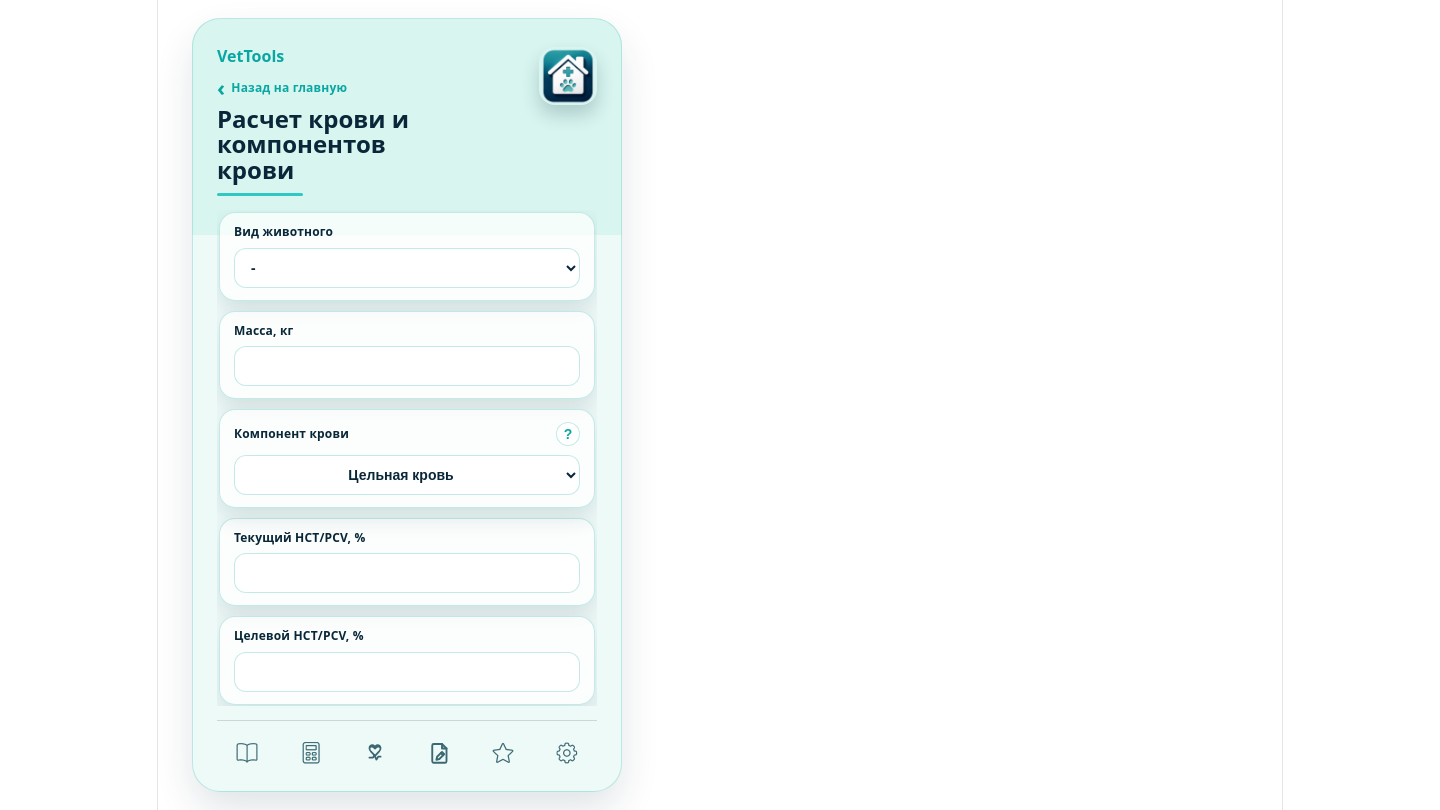
Test: BloodTransfusionPage › calculates platelet unit dose
Select "Собака" in the dropdown labelled "Вид животного" at (407, 268), box [234,248,580,288]
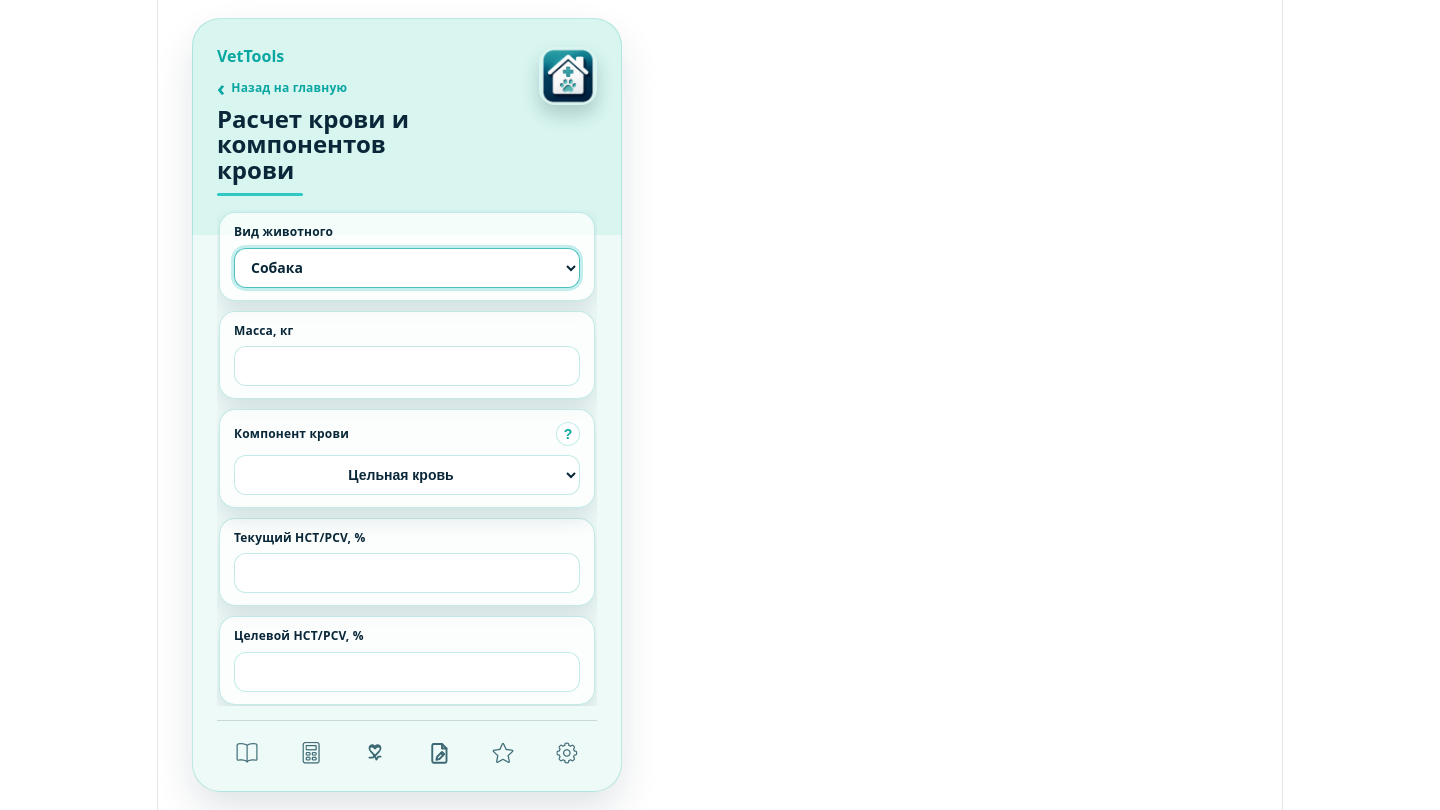
Type "23" into the number field labelled "Масса, кг" at (407, 366), box [234,346,580,386]
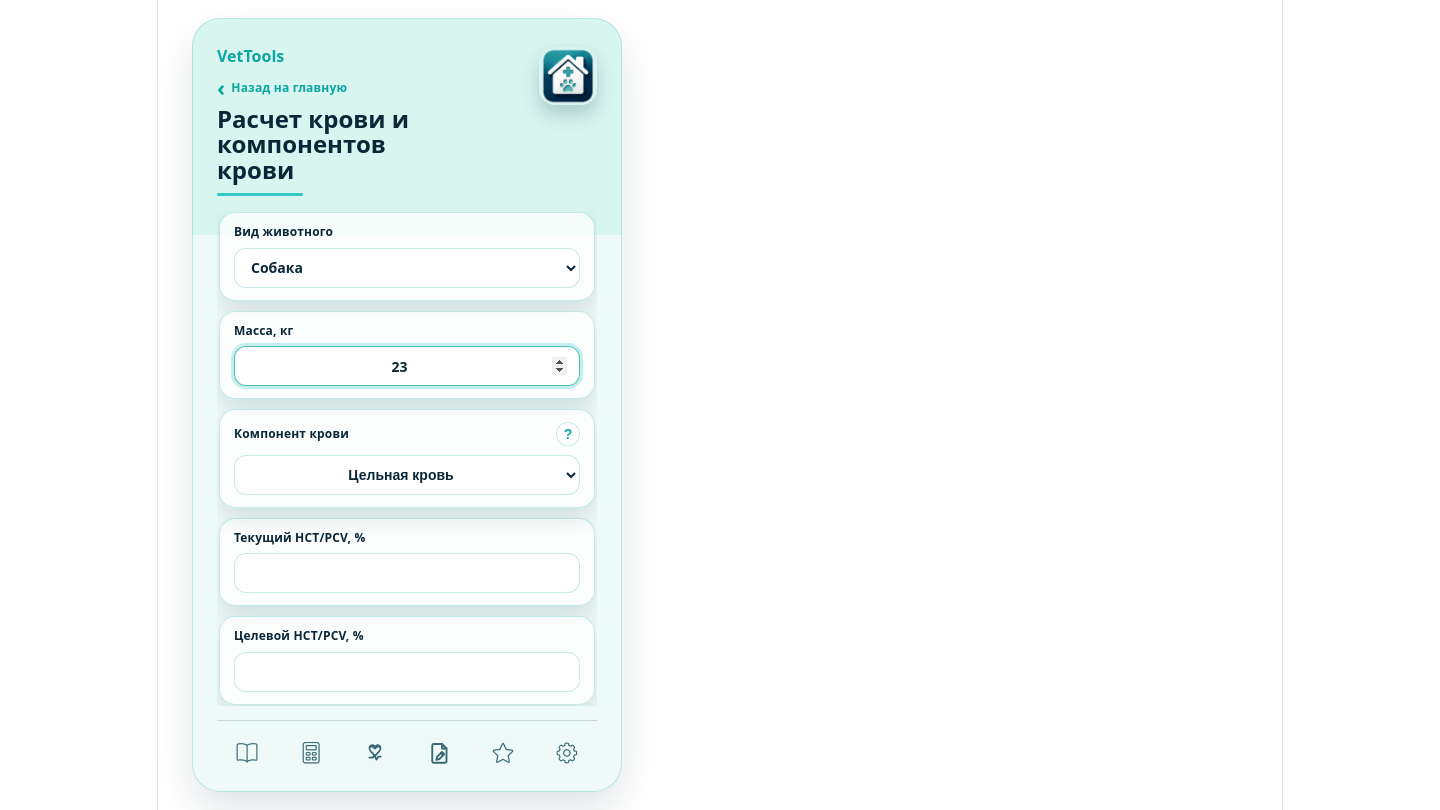
Select "Тромбоцитарный компонент" in the dropdown labelled "Компонент крови" at (407, 475), box [234,455,580,495]
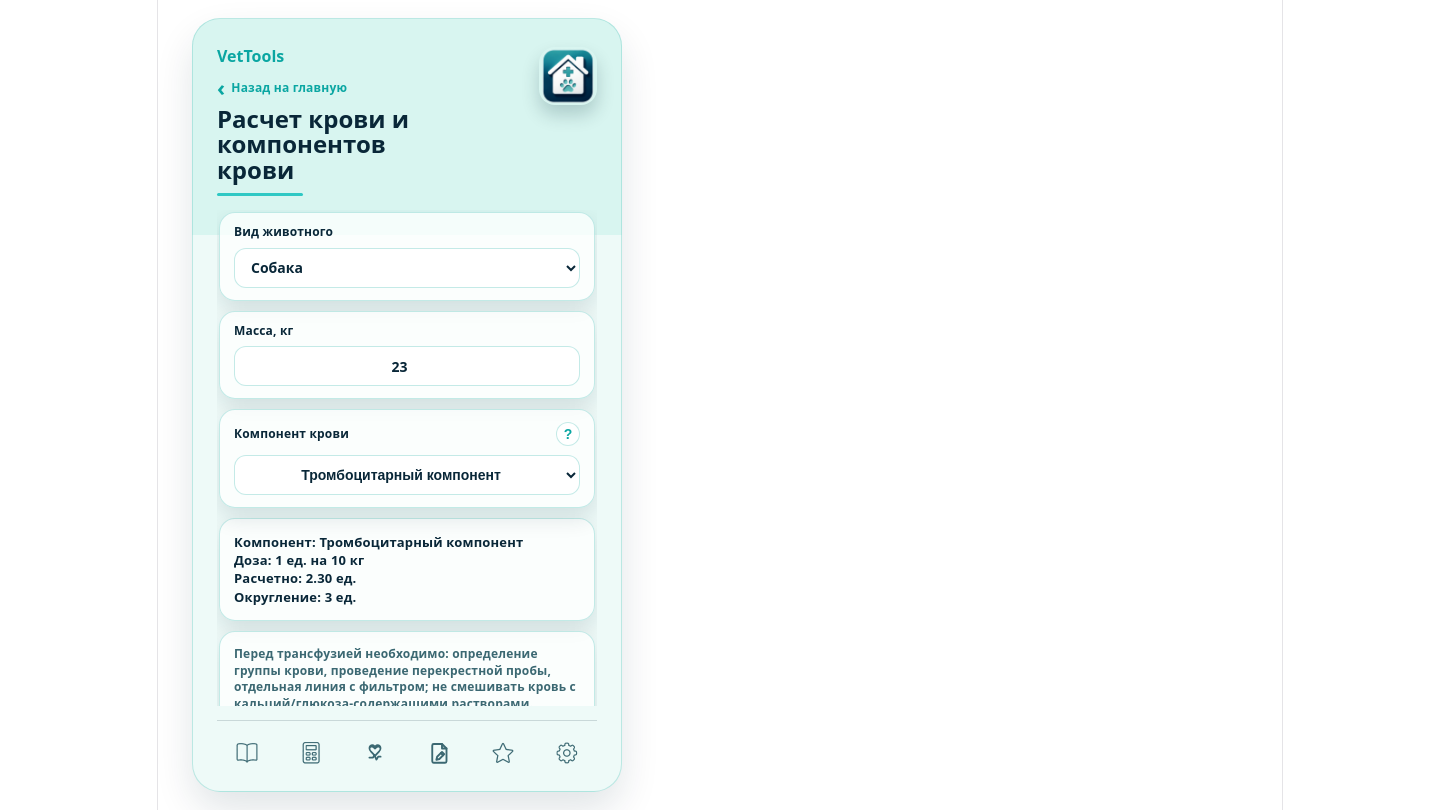
Now the text "Округление: 3 ед." is shown, box [234,533,523,606]
